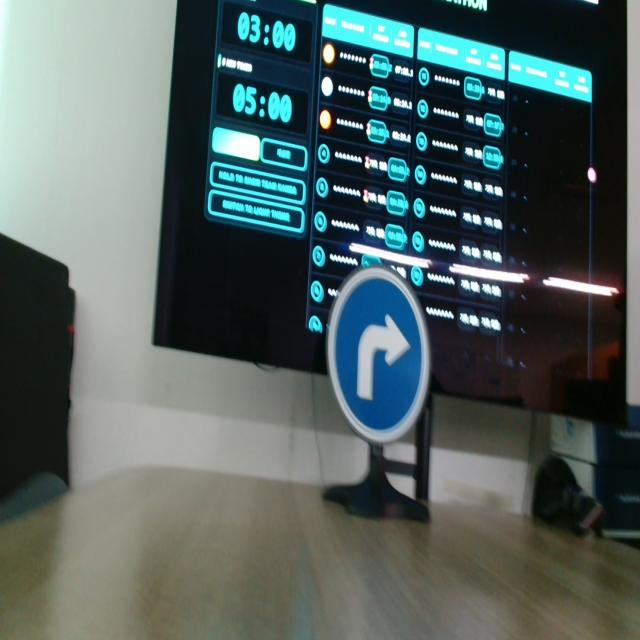right_dierection: (325, 261, 434, 453)
